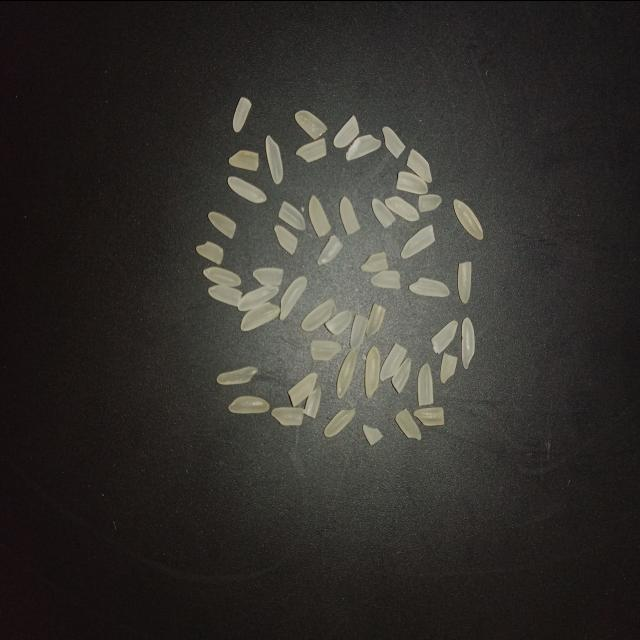Broken: (400, 224, 434, 258), (380, 342, 408, 381), (288, 371, 318, 406), (295, 110, 328, 140), (308, 194, 330, 237), (346, 134, 382, 160), (431, 320, 458, 354), (333, 114, 359, 148), (407, 148, 432, 182), (278, 200, 306, 230), (395, 408, 421, 440), (208, 210, 237, 238), (340, 195, 360, 234), (317, 234, 343, 264), (382, 126, 406, 158), (296, 138, 328, 162), (208, 284, 242, 306), (324, 309, 352, 335), (372, 198, 396, 228), (232, 96, 252, 132), (274, 224, 298, 254), (396, 172, 428, 194), (228, 148, 260, 170), (391, 357, 411, 392), (366, 302, 386, 336), (196, 240, 223, 264), (350, 313, 368, 349), (272, 406, 304, 426), (418, 363, 433, 405), (458, 260, 472, 303), (360, 251, 390, 271), (253, 266, 283, 286), (310, 340, 340, 360), (370, 269, 401, 288), (440, 351, 458, 383), (413, 406, 445, 424), (303, 386, 321, 418), (362, 423, 382, 445), (418, 194, 442, 212)
Full: (279, 276, 307, 320), (454, 199, 484, 239), (228, 175, 268, 203), (240, 302, 280, 330), (238, 284, 280, 310), (300, 298, 334, 330), (336, 349, 356, 397), (324, 406, 356, 436), (384, 195, 419, 221), (266, 134, 284, 184), (408, 277, 450, 297), (228, 394, 270, 414), (364, 346, 380, 398), (203, 266, 241, 286), (216, 366, 258, 384), (461, 316, 475, 368)
